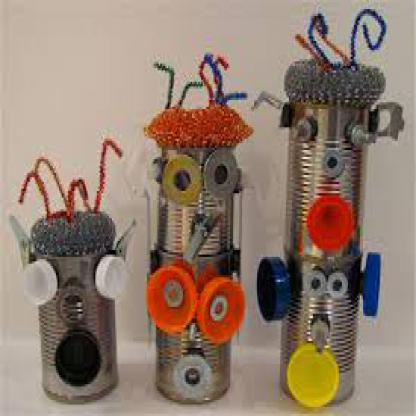METAL: (30, 252, 123, 396), (282, 98, 364, 254), (275, 254, 360, 402), (152, 248, 232, 402), (159, 143, 233, 255), (280, 61, 384, 100), (26, 211, 113, 250)
